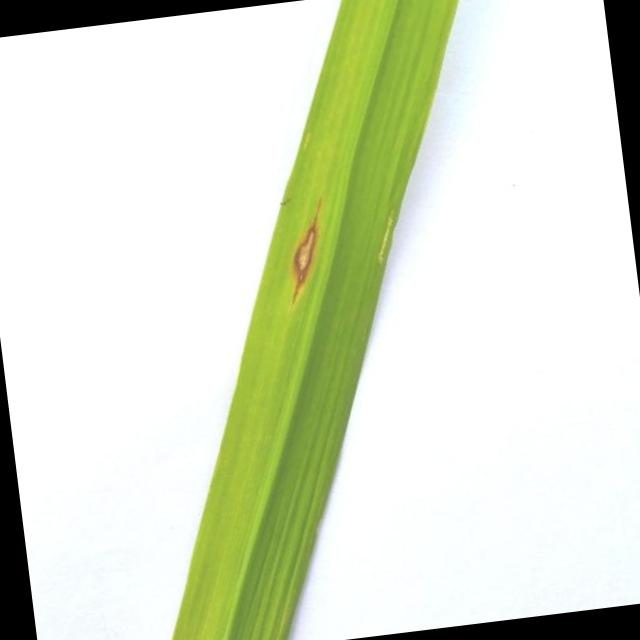Rice_Blast: (266, 185, 344, 298)
